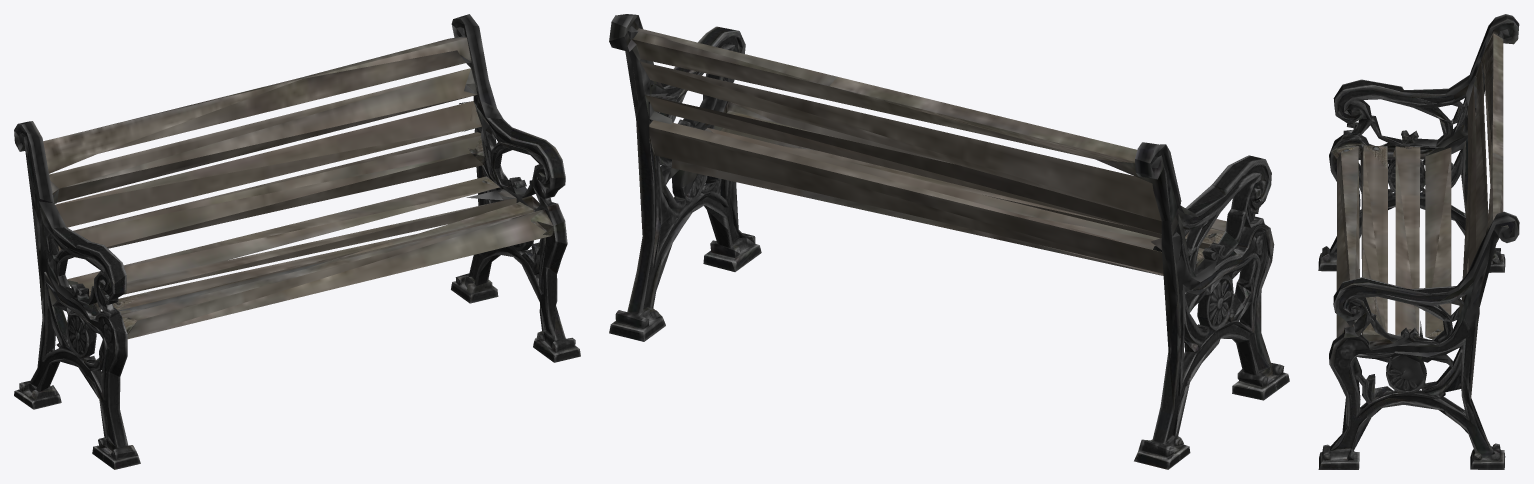
File: prop_bench.glb
The picture shows the model from 3 angles, left to right: view 1: azimuth 30°, elevation 25°; view 2: azimuth 150°, elevation 25°; view 3: azimuth 270°, elevation 25°; orthographic projection. The views are drawn at different scales.
Visible parts, largest first — view 1: Mesh_0; view 2: Mesh_0; view 3: Mesh_0.
Boxes of the visible parts, left/top/right/bottom form: Mesh_0: left=14, top=14, right=580, bottom=469; Mesh_0: left=609, top=14, right=1289, bottom=469; Mesh_0: left=1318, top=14, right=1519, bottom=469.
Bounding box in the file's own units: 1.9 × 1.05 × 0.7676.
1 material, 1 textured.
